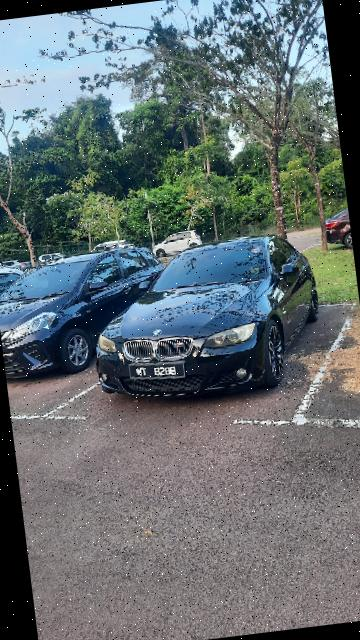License_Plate: (124, 356, 191, 390)
car: (79, 226, 332, 415), (1, 244, 177, 378)
